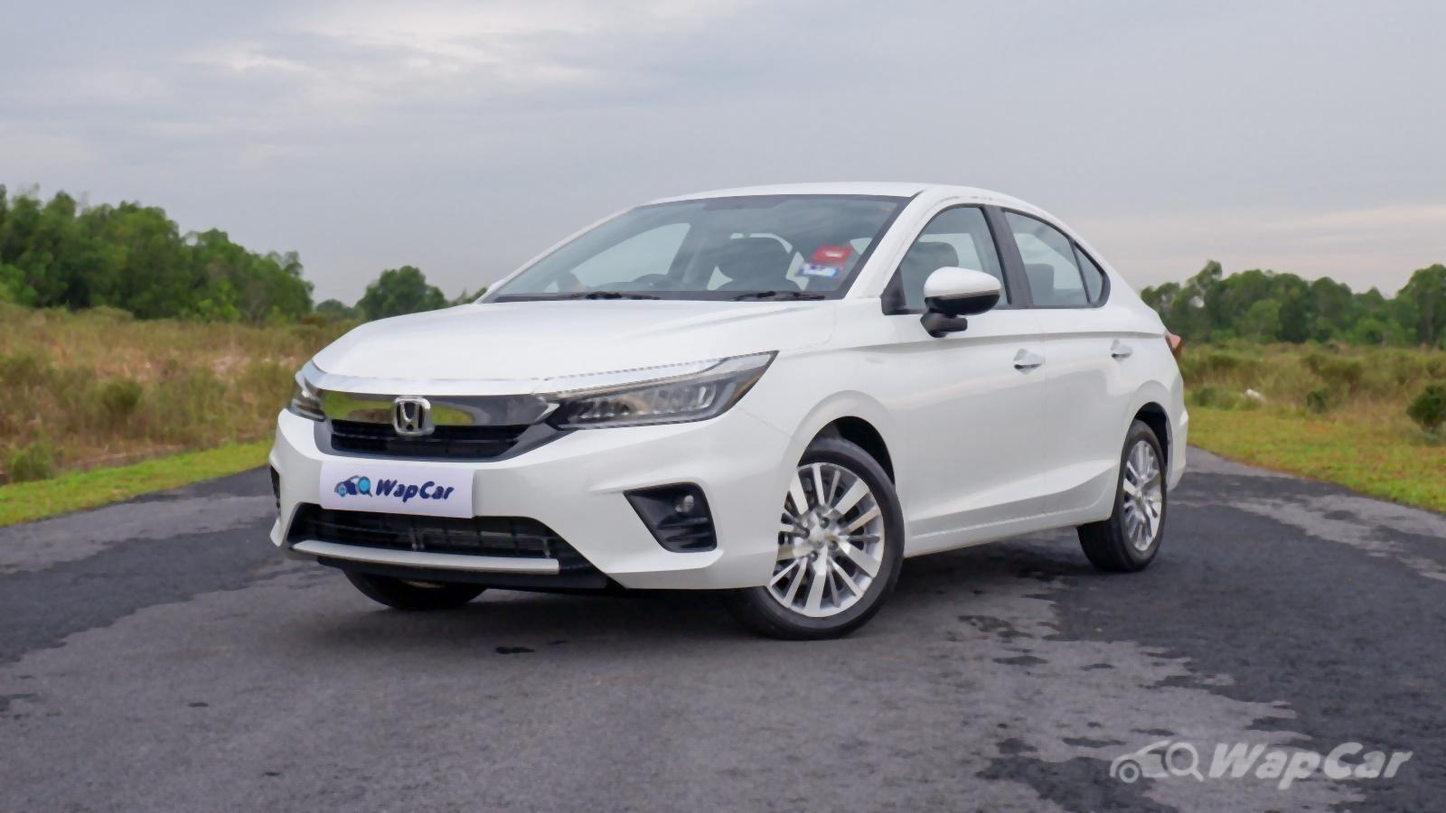Car hood: (295, 291, 841, 402)
Fender - -F-L-: (736, 290, 904, 556)
Fender - -R-L-: (1134, 320, 1180, 434)
Front bumper: (260, 423, 808, 604)
Headlight - -L-: (540, 346, 782, 436)
Headlight - -R-: (282, 373, 335, 430)
Passenger-s door - -F-L-: (905, 190, 1047, 546)
Passenger-s door - -R-L-: (1046, 213, 1144, 523)
Rear bumper: (1154, 411, 1197, 501)
Rear light - -L-: (1158, 311, 1190, 365)
Side bumper - -L-: (894, 497, 1124, 561)
Side mirror - -L-: (913, 257, 1006, 346)
